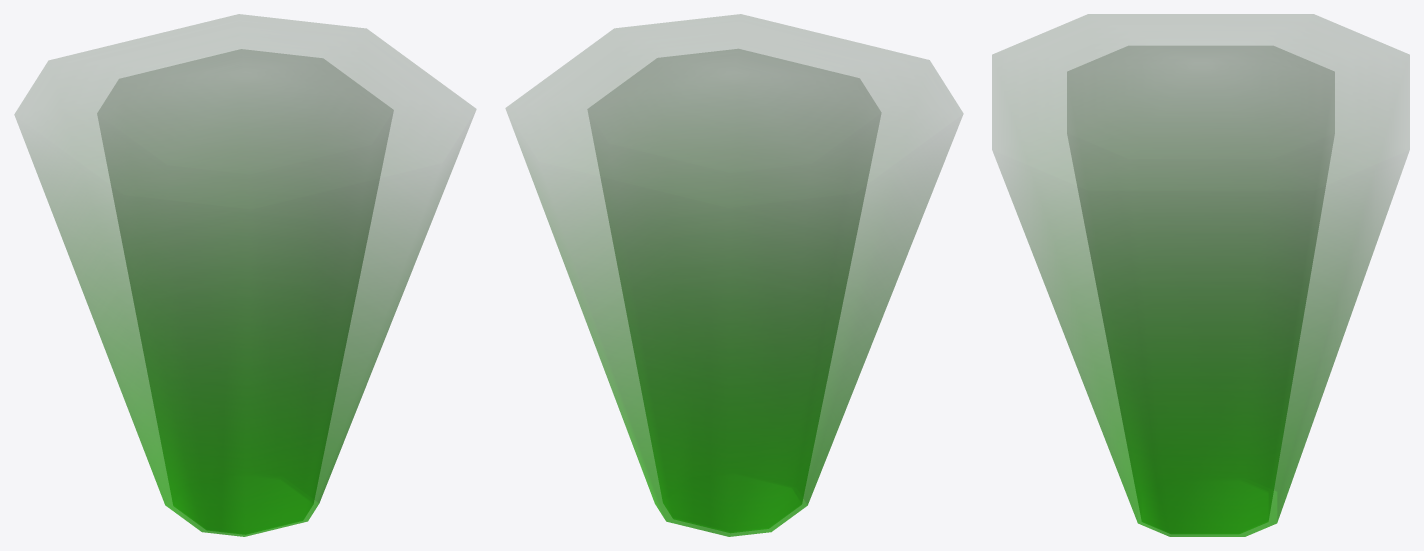
The picture shows the model from 3 angles, left to right: view 1: azimuth 30°, elevation 25°; view 2: azimuth 150°, elevation 25°; view 3: azimuth 270°, elevation 25°; orthographic projection. The views are drawn at different scales.
Parts seen in each view (by area): view 1: IndicatorSpawnAreaGreen; view 2: IndicatorSpawnAreaGreen; view 3: IndicatorSpawnAreaGreen.
Part boxes in pixels (left/top/right/bottom): IndicatorSpawnAreaGreen: left=15, top=14, right=475, bottom=536; IndicatorSpawnAreaGreen: left=506, top=14, right=962, bottom=536; IndicatorSpawnAreaGreen: left=992, top=14, right=1409, bottom=536.
Size of the model in its own units: 4.64 by 5.44 by 4.64.
Materials: 1 (1 with a texture image).
